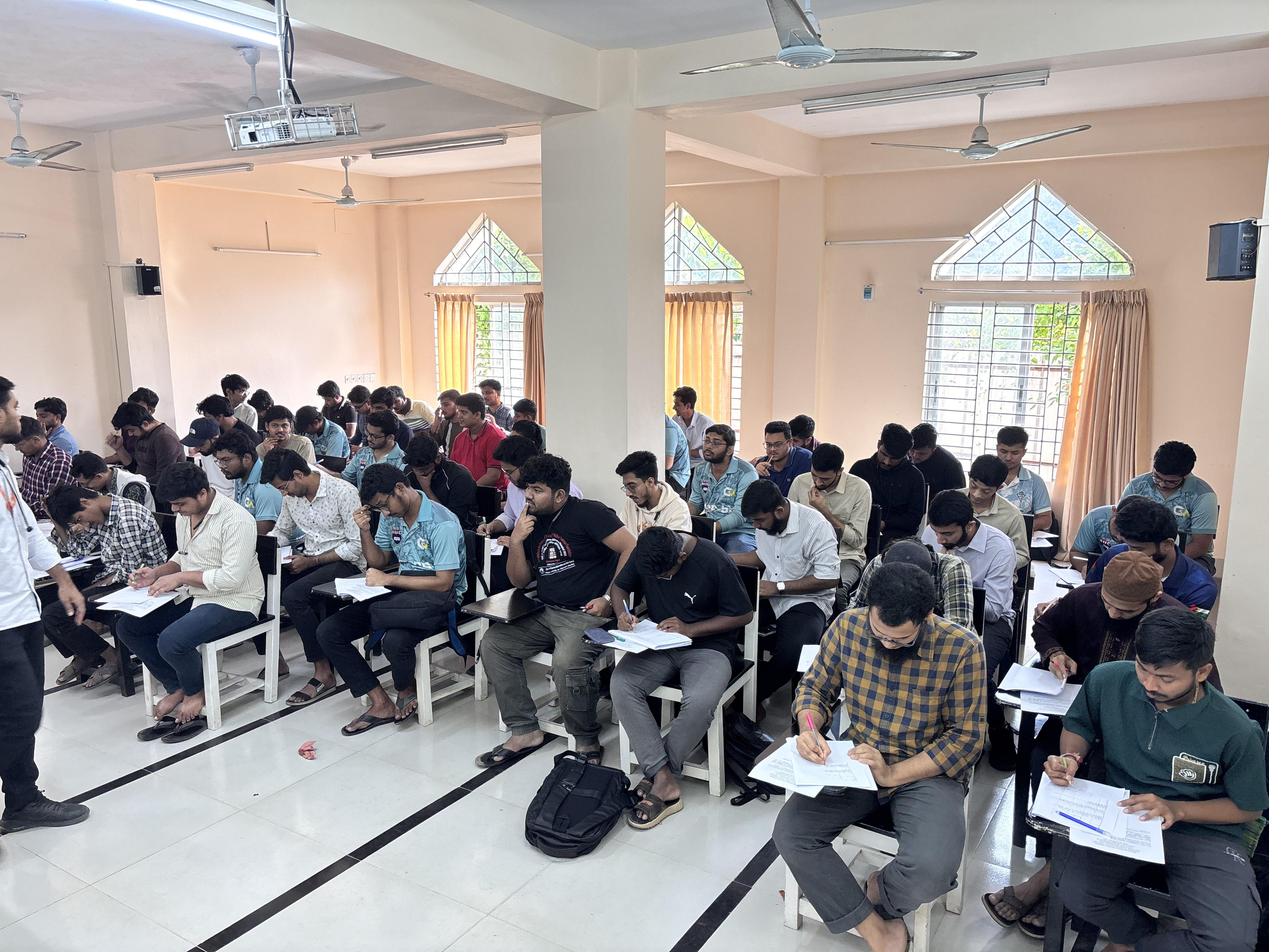invigilator: (0, 377, 73, 720)
no_cheating: (804, 542, 964, 908), (1070, 624, 1252, 912), (125, 477, 263, 706), (590, 543, 754, 724), (332, 470, 469, 656), (508, 460, 606, 720), (1018, 569, 1154, 709), (46, 491, 159, 618), (253, 458, 357, 592), (729, 490, 839, 605), (801, 452, 860, 579), (1138, 438, 1221, 522), (600, 441, 674, 534), (922, 498, 980, 608), (1094, 506, 1182, 577), (394, 437, 475, 512), (952, 463, 1018, 550), (996, 419, 1055, 513), (441, 398, 501, 487), (209, 438, 275, 518), (910, 419, 965, 513), (867, 422, 915, 529), (8, 416, 67, 503), (685, 422, 740, 514), (471, 440, 539, 509), (108, 406, 182, 467), (335, 422, 402, 483), (42, 399, 97, 457), (70, 451, 129, 497), (738, 424, 785, 475), (196, 398, 250, 441), (483, 377, 524, 427), (314, 377, 353, 425), (184, 418, 225, 459), (296, 402, 334, 444), (793, 411, 826, 449), (347, 386, 374, 420), (254, 387, 281, 419), (428, 393, 456, 419)
suspicious_moving: (672, 377, 713, 426), (386, 385, 425, 426)
